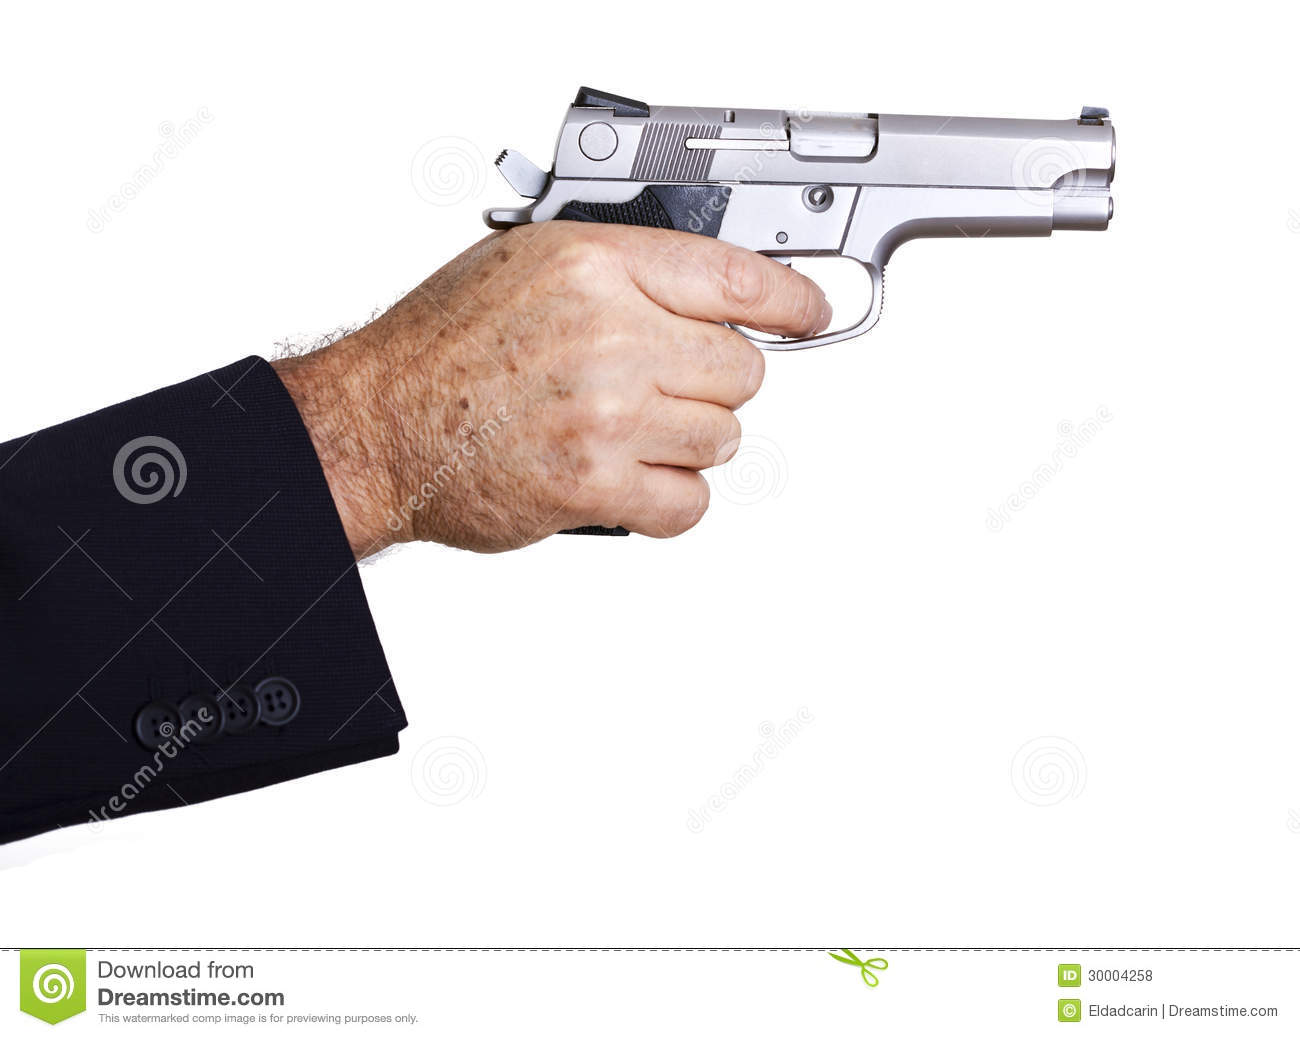pistol: (481, 84, 1117, 543)
